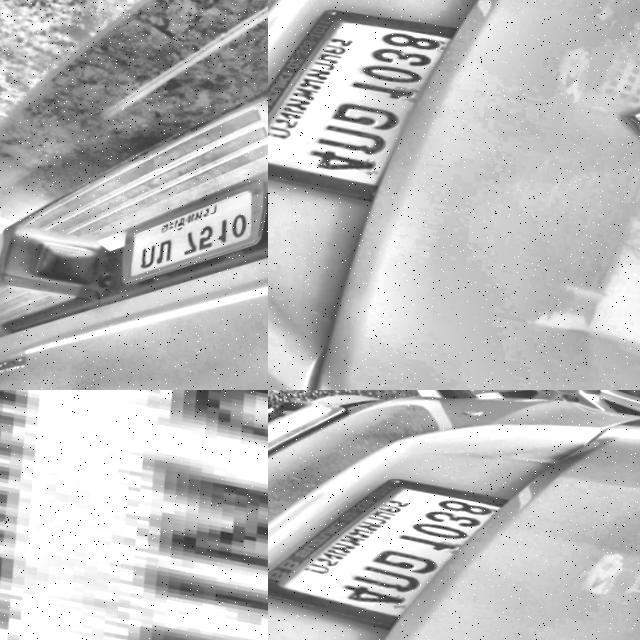license-plate: (0, 390, 268, 640), (268, 448, 518, 640), (268, 0, 477, 218), (0, 312, 67, 390)
